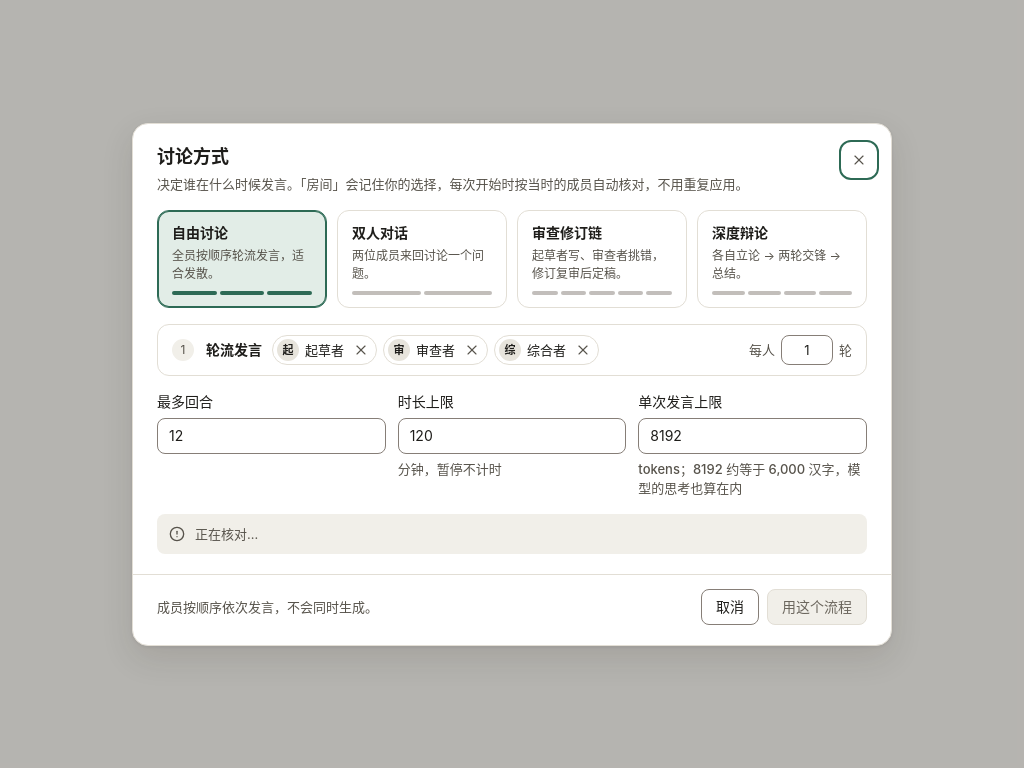
Test: 讨论方式 dialog › ignores a check that answers after the draft changed
The width and height of the screenshot is (1024, 768).
Click the button "深度辩论 各自立论 → 两轮交锋 → 总结。".
click(782, 258)  # box [697, 210, 867, 308]
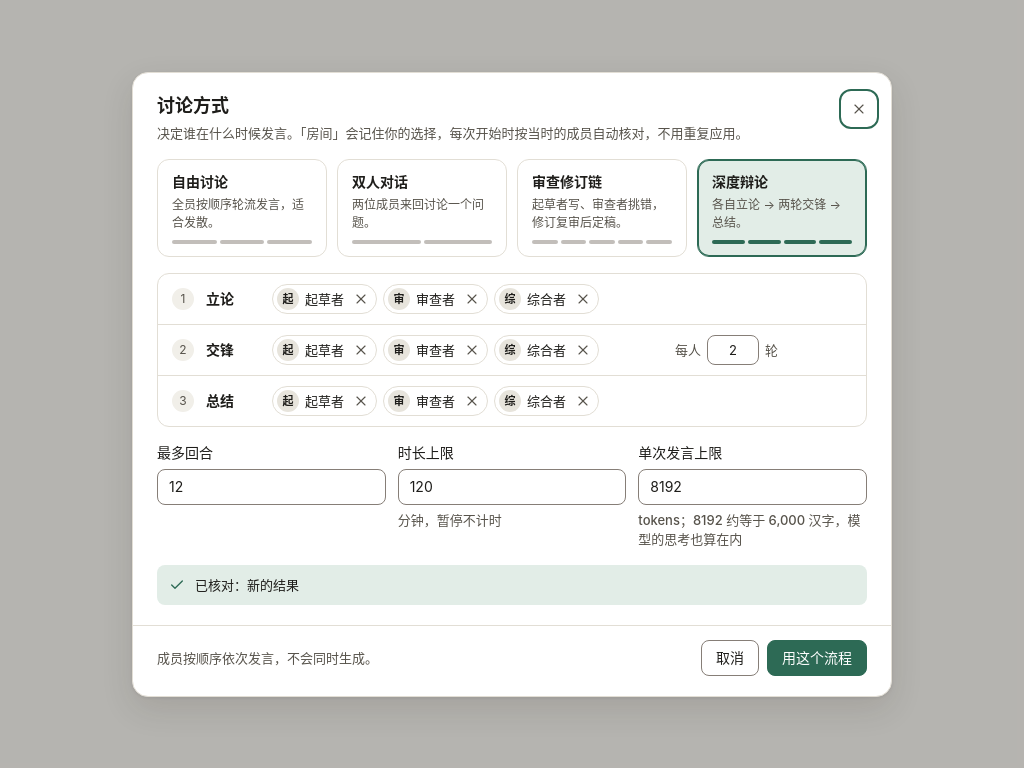
Expected: the text "已核对：新的结果" is shown, [195, 576, 299, 592]
